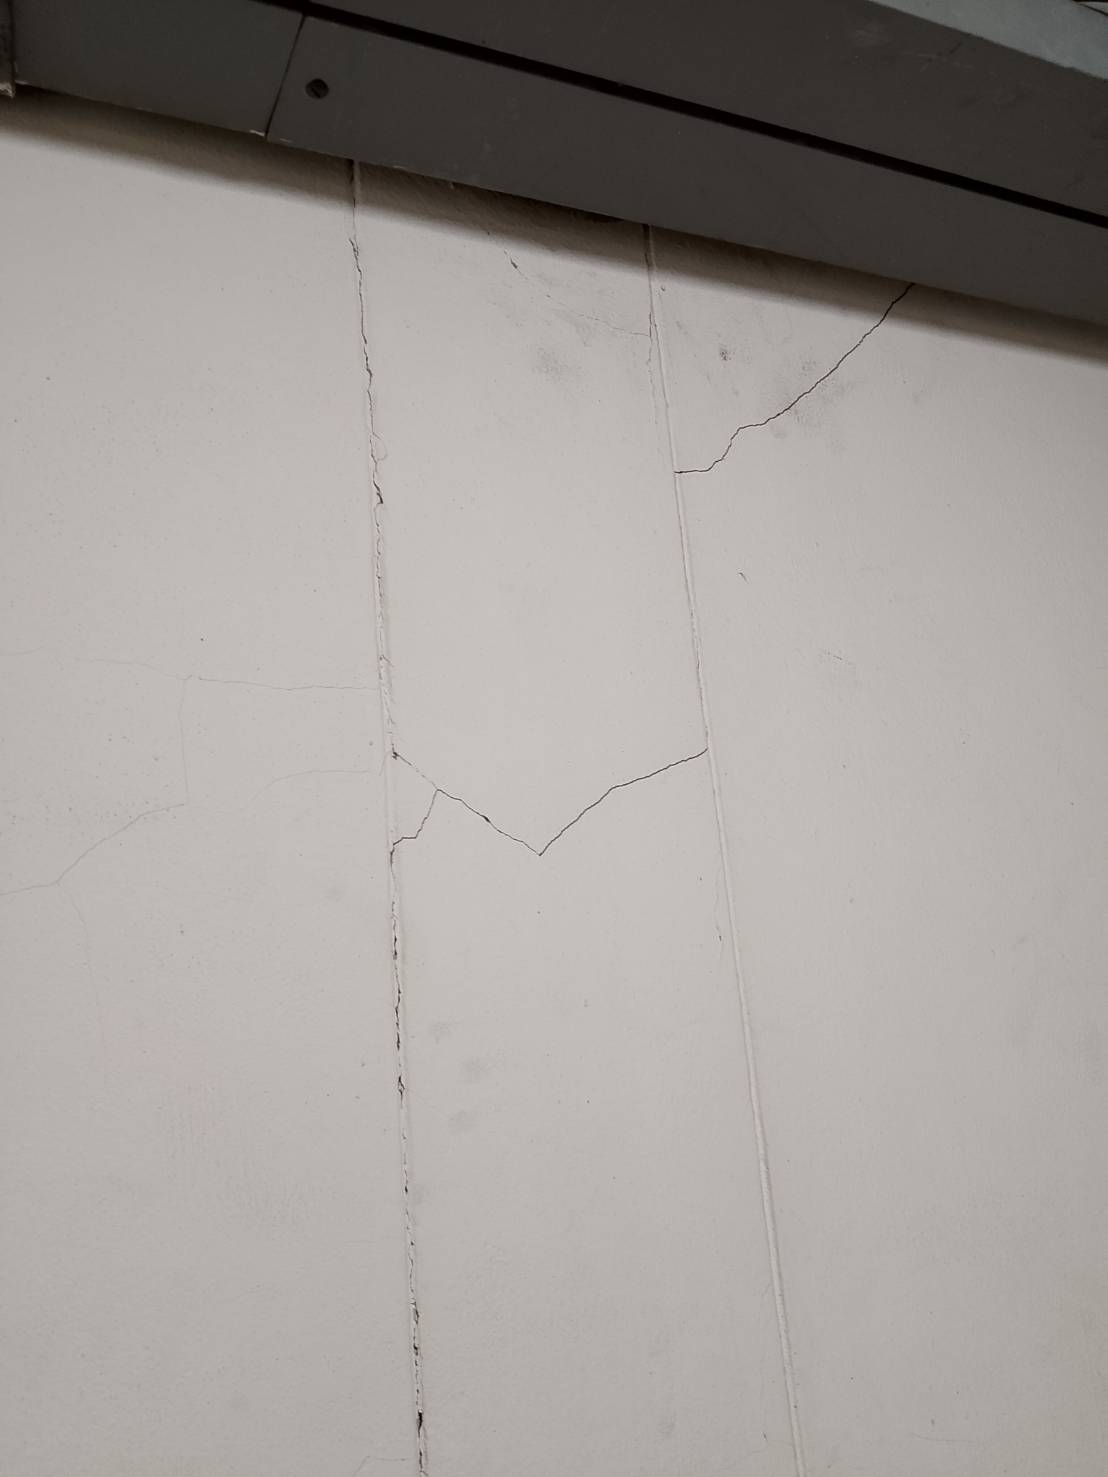Low: (321, 179, 987, 894)
